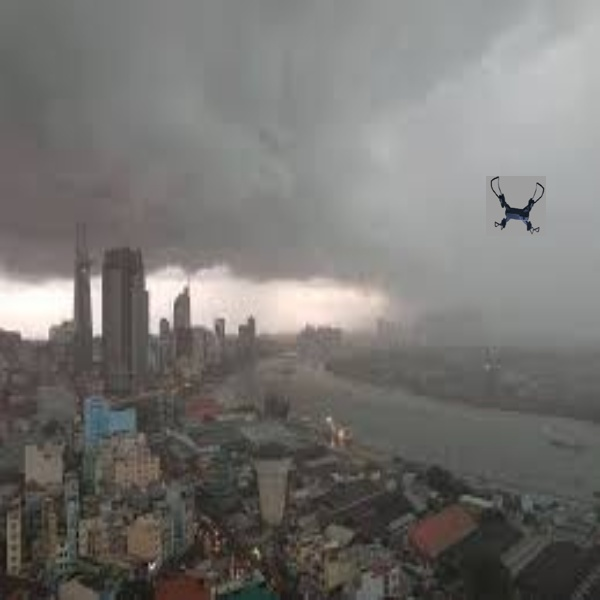drone: (483, 174, 548, 238)
